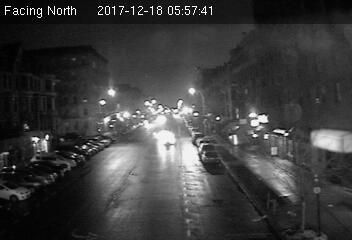car: (200, 150, 219, 163)
